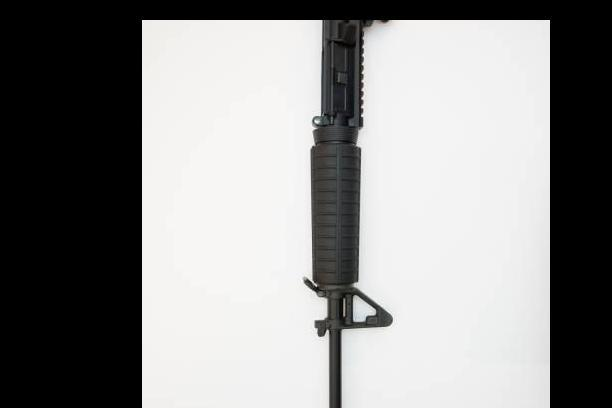larga: (301, 20, 395, 408)
